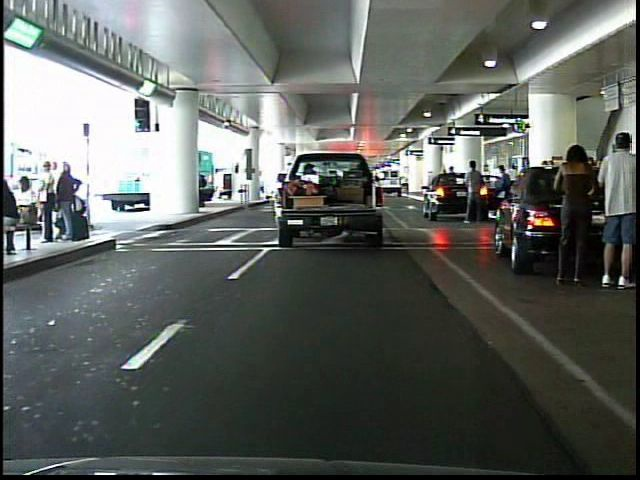person: (588, 125, 637, 291), (552, 134, 603, 291), (459, 153, 489, 229), (487, 161, 514, 227)
